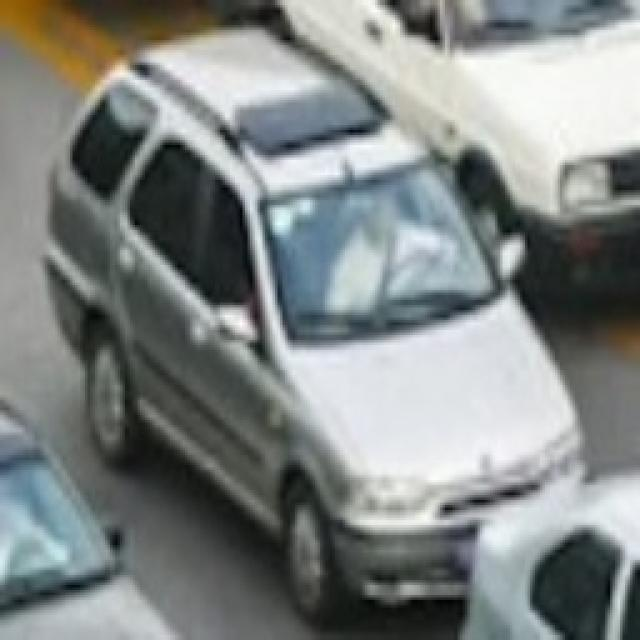windshield: (249, 150, 505, 347)
